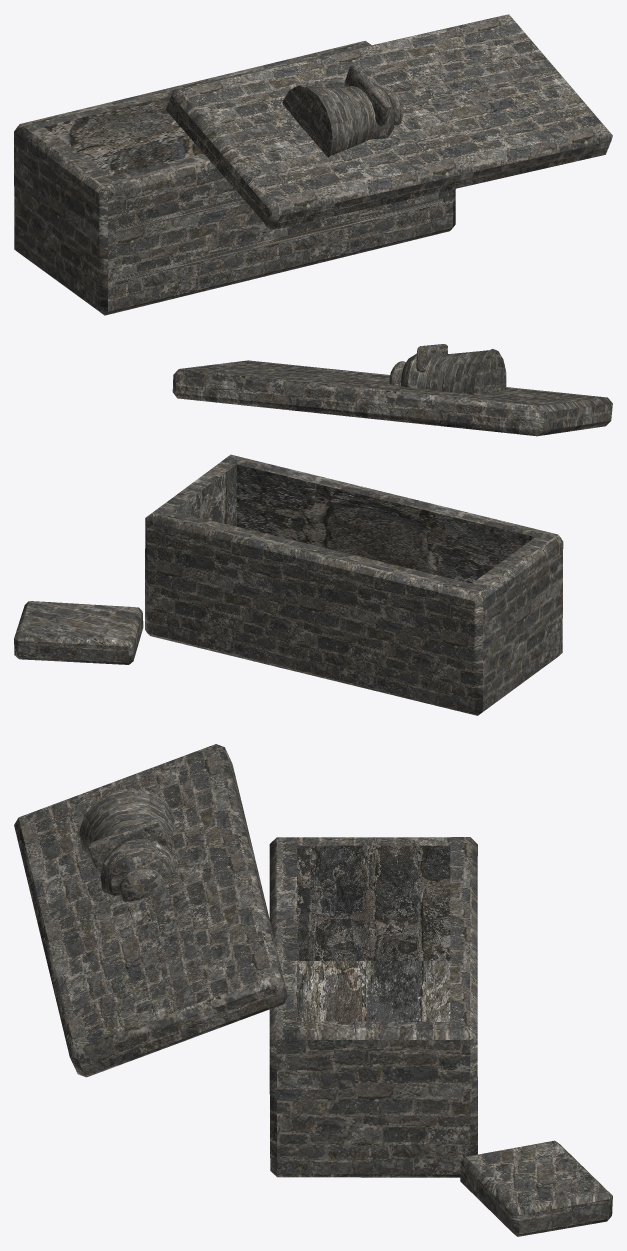
File: sarcophagus-broken-lid-v01.glb
The picture shows the model from 3 angles, top to bottom: view 1: azimuth 30°, elevation 25°; view 2: azimuth 150°, elevation 25°; view 3: azimuth 270°, elevation 25°; orthographic projection. The views are drawn at different scales.
Visible parts, largest first — view 1: sarcophagus-broken-lid; view 2: sarcophagus-broken-lid; view 3: sarcophagus-broken-lid.
Boxes of the visible parts, x1,y1,x2,y2 form: sarcophagus-broken-lid: (14, 14, 612, 315); sarcophagus-broken-lid: (14, 344, 612, 715); sarcophagus-broken-lid: (14, 744, 612, 1236).
Bounding box in the file's own units: 3.38 × 1.68 × 3.32.
Materials: 1 (1 with a texture image).
